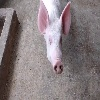heo: (36, 1, 72, 74)
